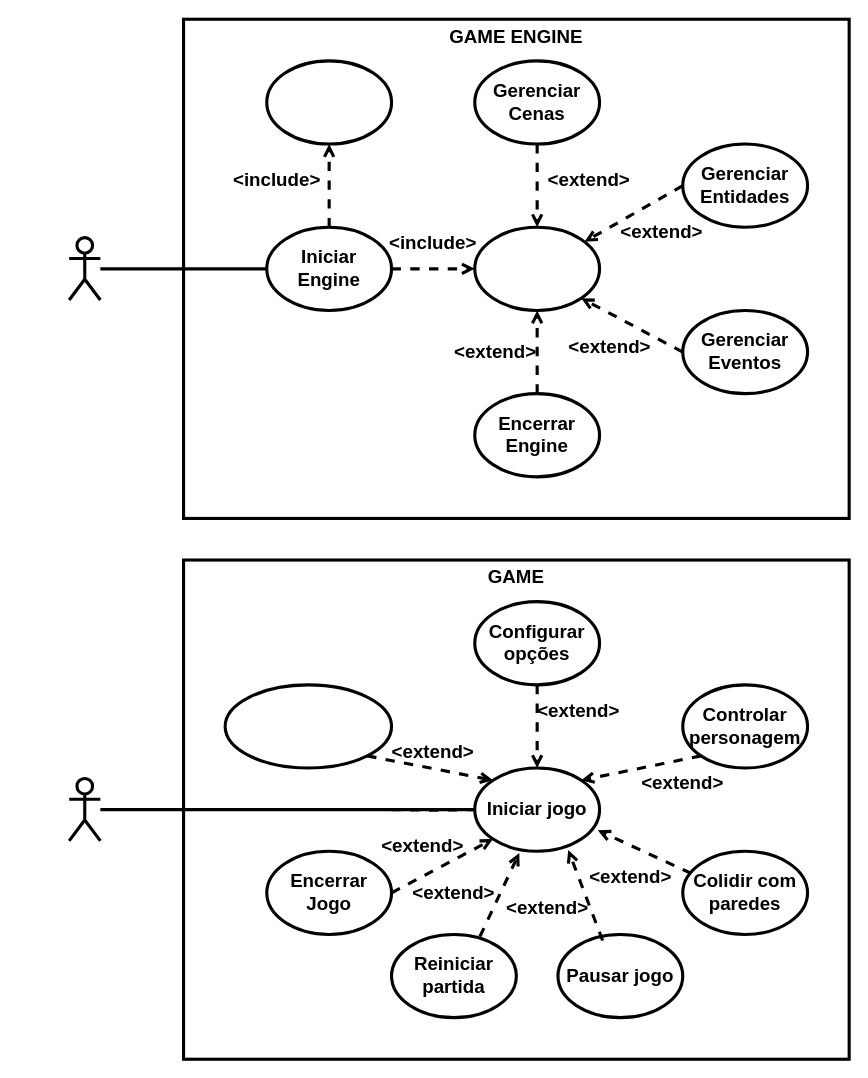
Image size: 868x1078. Some labels were removed from this diagram. The centre of each missing label's shape, as x and y in pixels:
"Carregar Recursos" belongs at [329,102].
"Desenvolvedor" belongs at [84,268].
"Executar Loop do Jogo" belongs at [537,268].
"Jogador" belongs at [84,809].
"Navegar pelo menu principal" belongs at [308,726].
